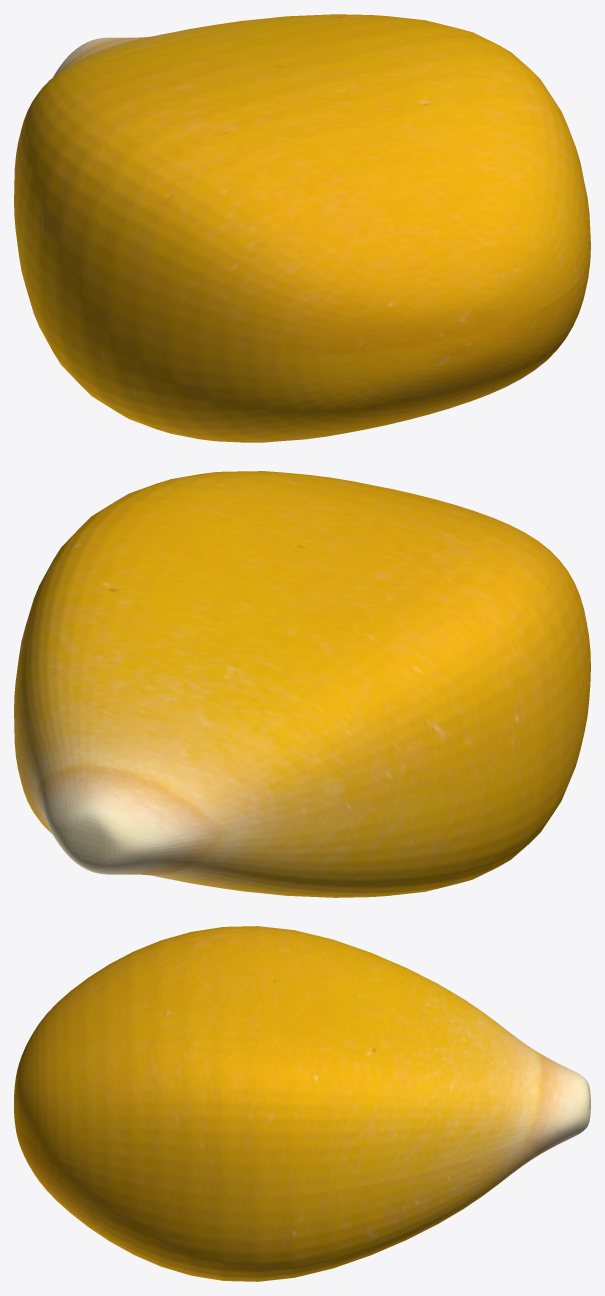
Rendered from kernel_high_poly2.fbx.
3 renders of one model, top to bottom at view 1: azimuth 30°, elevation 25°; view 2: azimuth 150°, elevation 25°; view 3: azimuth 270°, elevation 25°, orthographic. The views are drawn at different scales.
Visible parts, largest first — view 1: Corn_kernel-material.001; view 2: Corn_kernel-material.001; view 3: Corn_kernel-material.001.
Boxes of the visible parts, bbox=[...] form: Corn_kernel-material.001: bbox=[14, 14, 590, 442]; Corn_kernel-material.001: bbox=[14, 471, 590, 897]; Corn_kernel-material.001: bbox=[14, 926, 590, 1281].
Bounding box in the file's own units: 7.16 × 4.38 × 9.41.
Materials: 1 (1 with a texture image).
